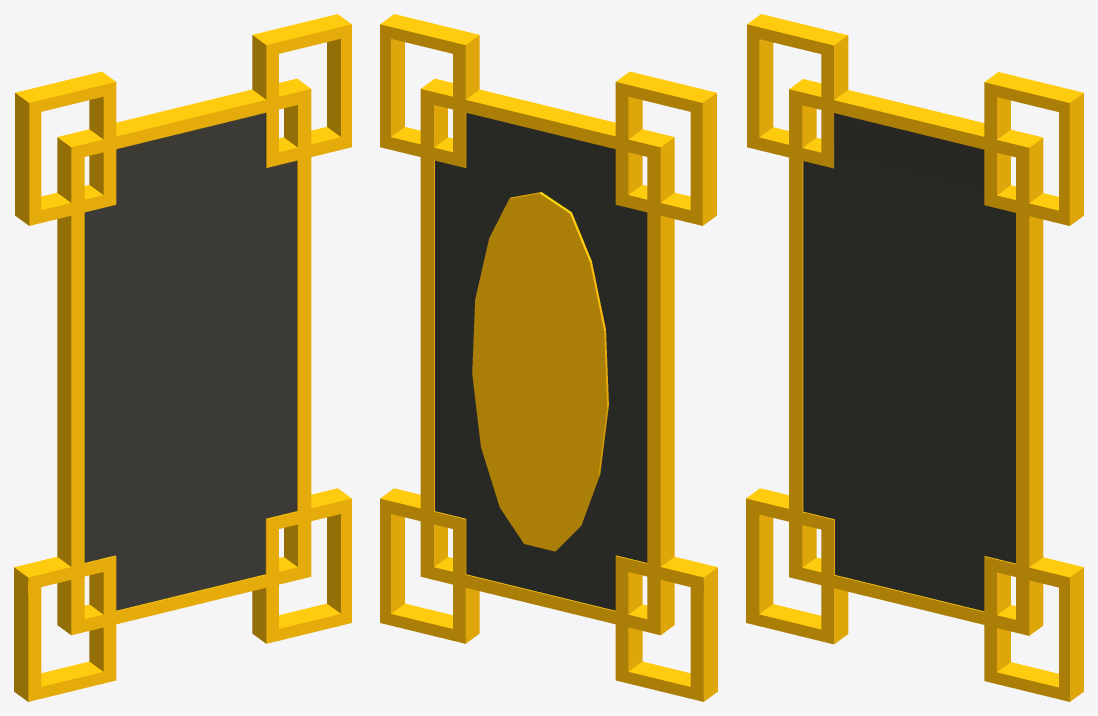
Rendered from guard_mist.glb.
3 renders of one model, left to right at view 1: azimuth 30°, elevation 25°; view 2: azimuth 150°, elevation 25°; view 3: azimuth 330°, elevation 25°, orthographic.
Visible parts, largest first — view 1: Guard; view 2: Guard; view 3: Guard.
Boxes of the visible parts, box(x1,y1,x2,y2) form: Guard: box(14, 14, 351, 701); Guard: box(380, 14, 717, 701); Guard: box(746, 14, 1083, 701).
Bounding box in the file's own units: 0.09 × 0.159 × 0.0073.
